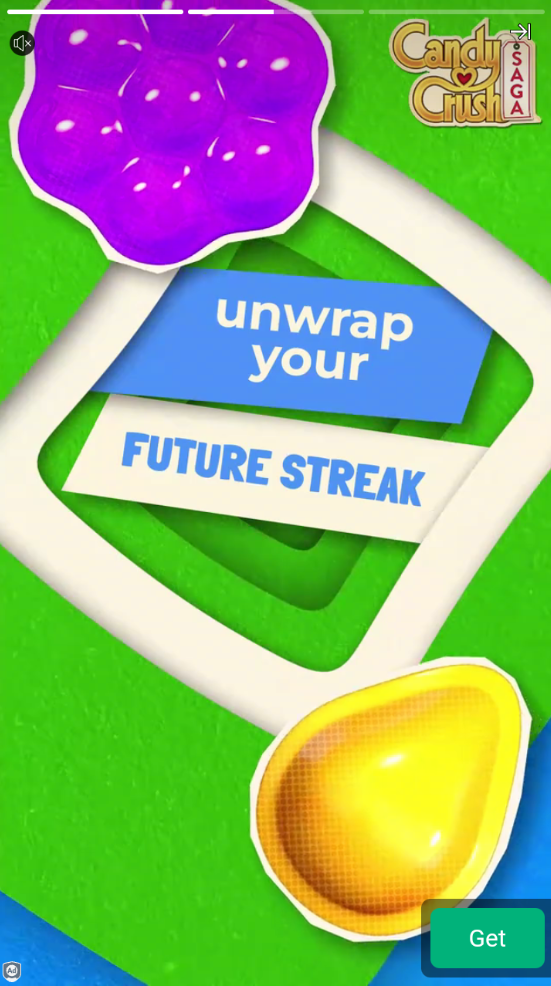close_button: (501, 16, 537, 47)
